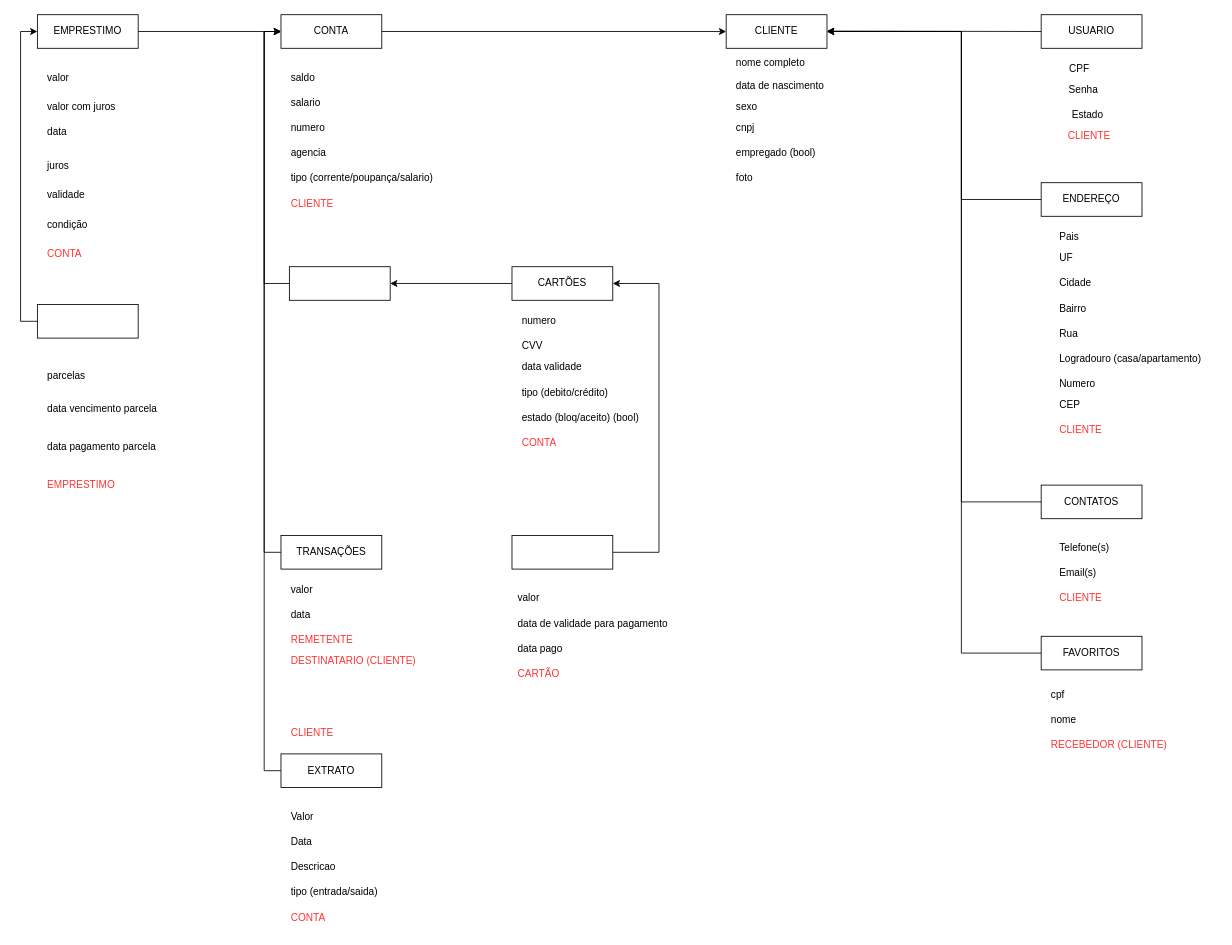
Some shapes in this 1232 by 945 pixel diagram are drawn without their labels. The centre of each missing label's shape, as x and y in pixels:
"FATURA" belongs at point (562, 552).
"PGM EMPRESTIMO" belongs at point (87, 321).
"SOLICITAÇÃO" belongs at point (339, 283).
